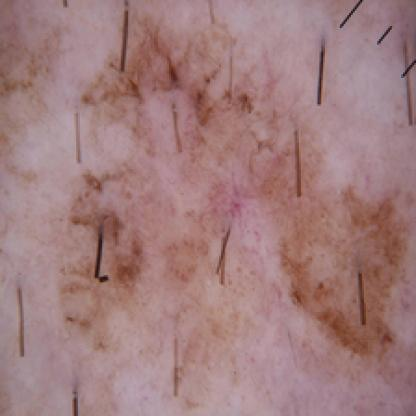Skin_Cancer-Malignant: (57, 23, 416, 388)
